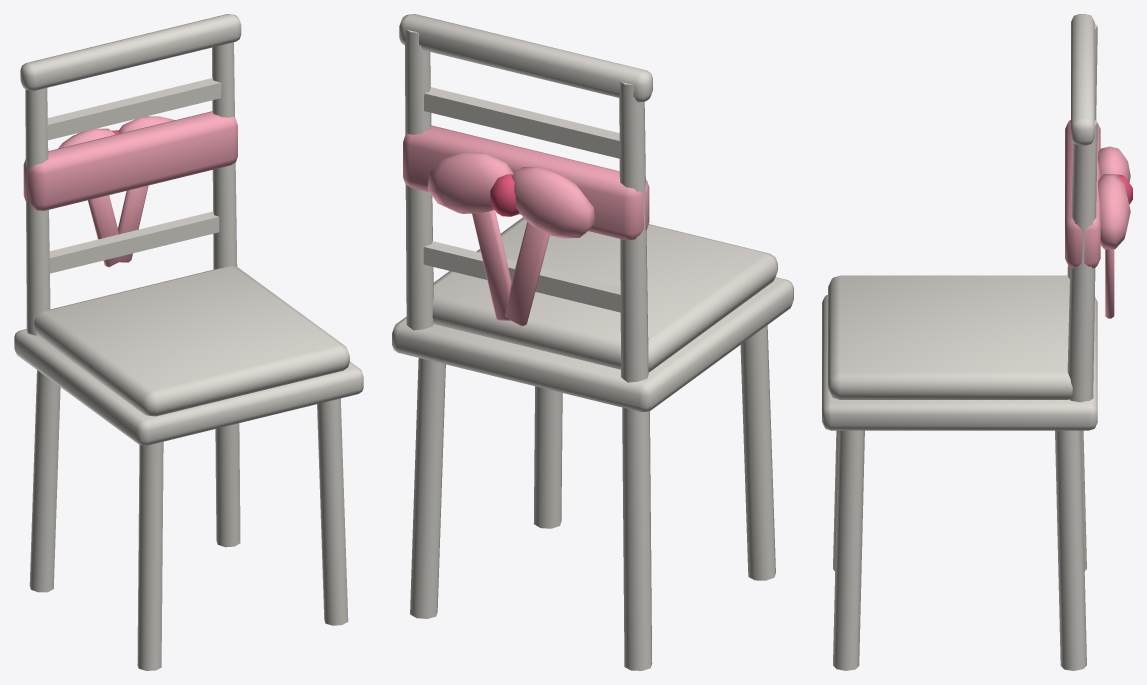
The model's file is cadeira.glb.
3 renders of one model, left to right at view 1: azimuth 30°, elevation 25°; view 2: azimuth 150°, elevation 25°; view 3: azimuth 270°, elevation 25°, orthographic. The views are drawn at different scales.
Visible parts, largest first — view 1: Cadeira; view 2: Cadeira; view 3: Cadeira.
Boxes of the visible parts, left/top/right/bottom form: Cadeira: left=14, top=14, right=363, bottom=670; Cadeira: left=392, top=14, right=793, bottom=670; Cadeira: left=822, top=14, right=1132, bottom=670.
Bounding box in the file's own units: 0.46 × 1.02 × 0.5185.
